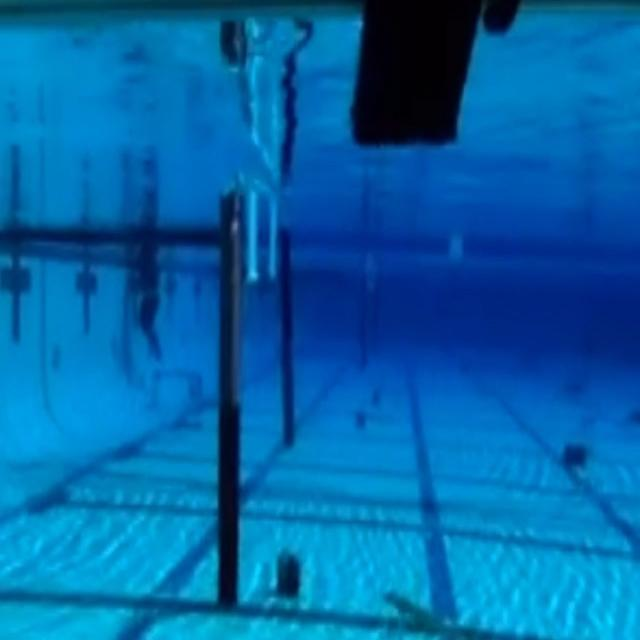Gate: (219, 190, 295, 619)
